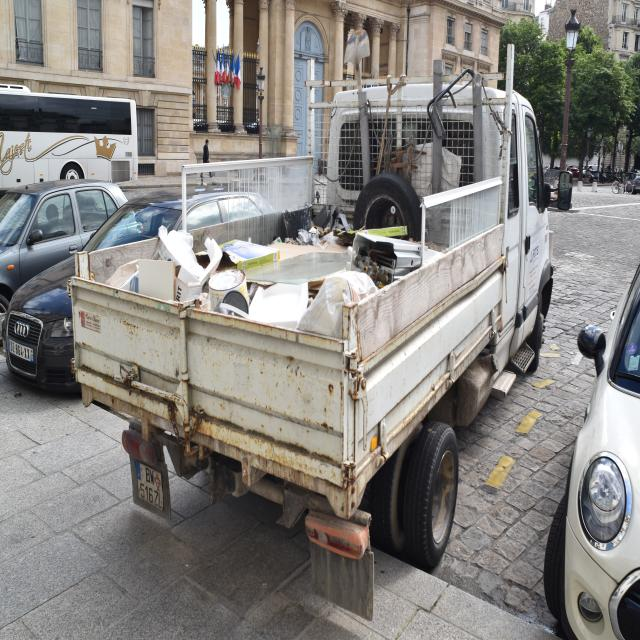lixo domiciliar: (226, 220, 405, 334), (114, 224, 220, 310), (314, 193, 432, 268)
